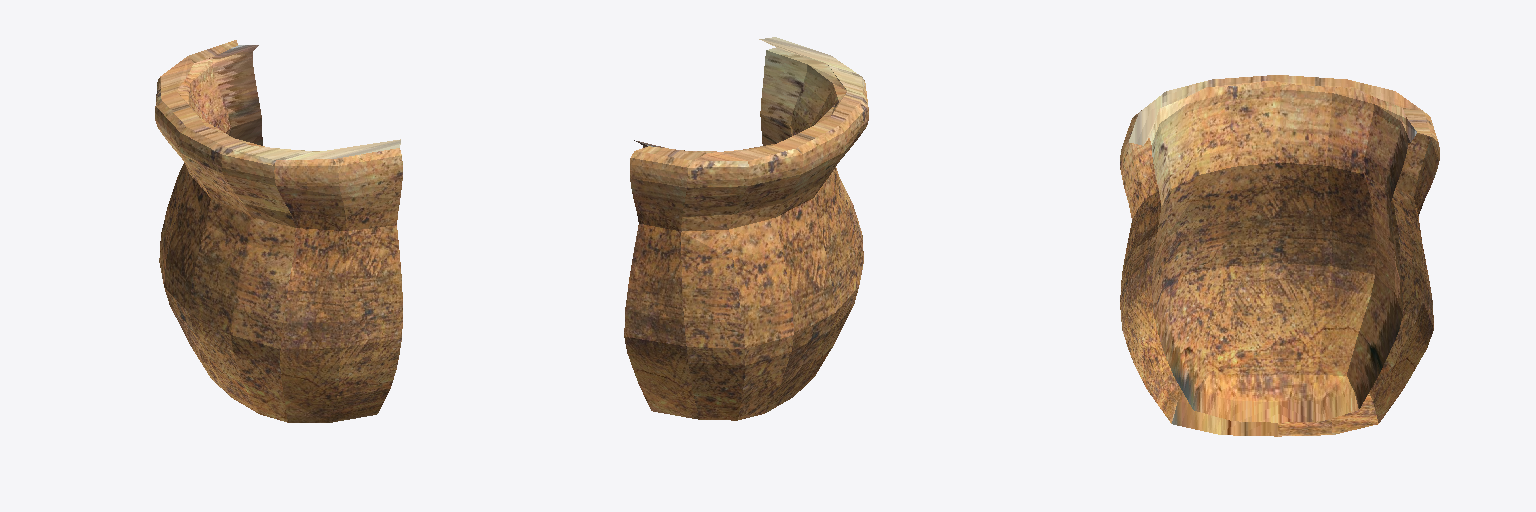
3 renders of one model, left to right at view 1: azimuth 30°, elevation 25°; view 2: azimuth 150°, elevation 25°; view 3: azimuth 270°, elevation 25°, orthographic.
Visible parts, largest first — view 1: Cylinder.001_Cylinder.002; view 2: Cylinder.001_Cylinder.002; view 3: Cylinder.001_Cylinder.002.
Part boxes in pixels (x1,y1,x2,y2): Cylinder.001_Cylinder.002: (155,40,402,422); Cylinder.001_Cylinder.002: (624,37,868,420); Cylinder.001_Cylinder.002: (1120,75,1439,436).
Size of the model in its own units: 0.2516 by 0.4613 by 0.4526.
Materials: 1 (1 with a texture image).